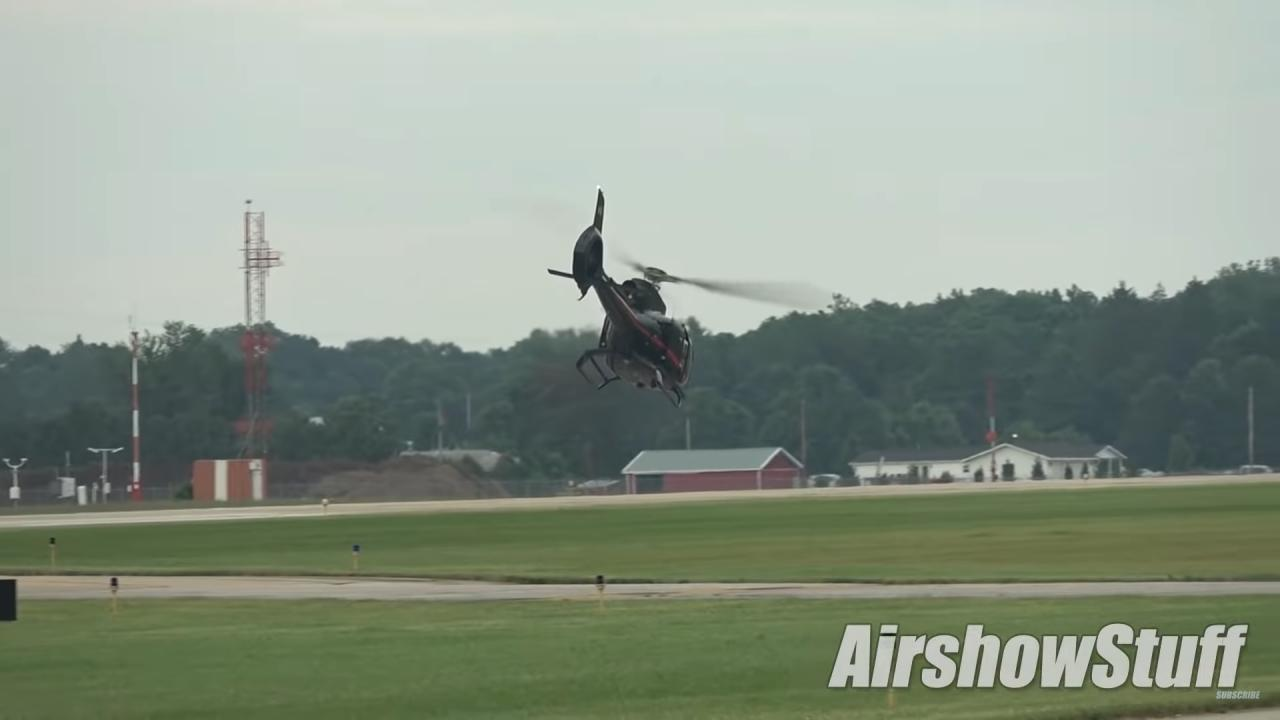Helicopter: (503, 171, 846, 419)
